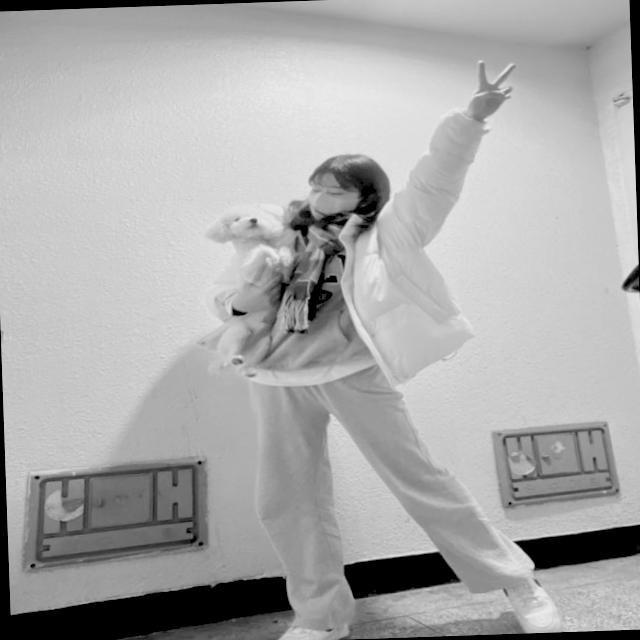padding: (197, 107, 500, 380)
trainingpants: (242, 354, 538, 630)
